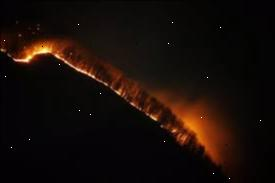fire: (0, 38, 140, 91), (126, 99, 196, 150)
